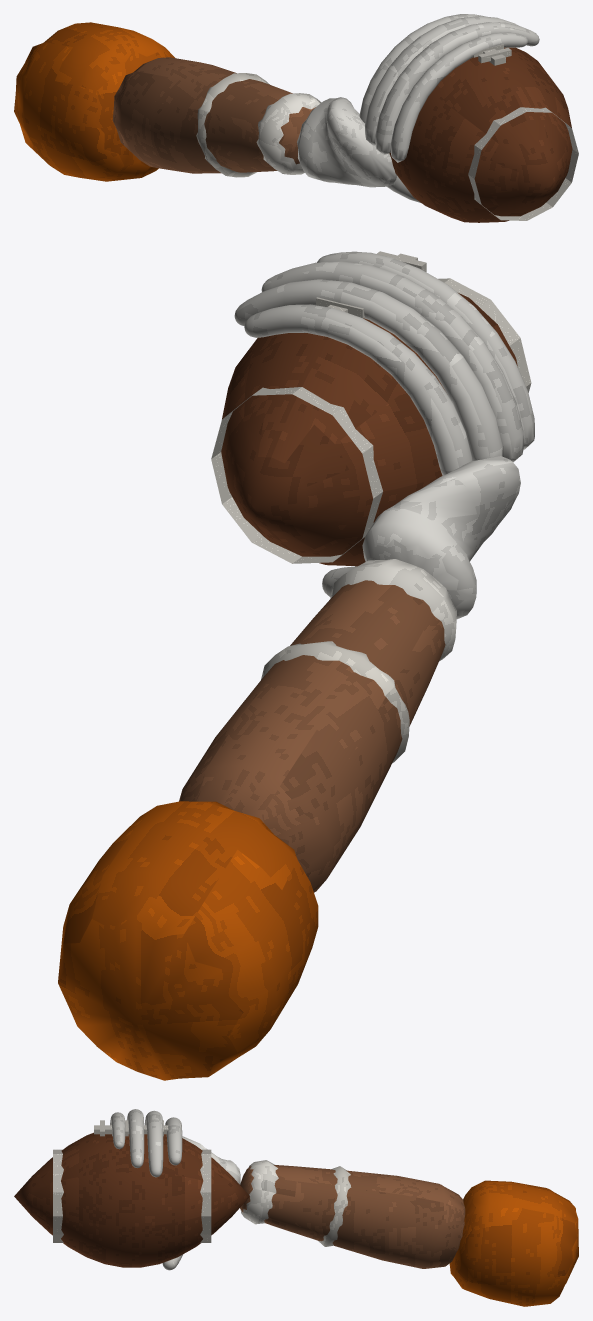
Rendered from fp_arm.glb.
3 renders of one model, top to bottom at view 1: azimuth 30°, elevation 25°; view 2: azimuth 150°, elevation 25°; view 3: azimuth 270°, elevation 25°, orthographic. The views are drawn at different scales.
Visible parts, largest first — view 1: fp_arm, fp_ball; view 2: fp_arm, fp_ball; view 3: fp_arm, fp_ball.
Part boxes in pixels (left/top/right/bottom): fp_arm: left=14, top=14, right=539, bottom=203; fp_ball: left=389, top=44, right=578, bottom=222; fp_arm: left=58, top=251, right=534, bottom=1080; fp_ball: left=211, top=251, right=531, bottom=566; fp_arm: left=110, top=1109, right=578, bottom=1306; fp_ball: left=14, top=1120, right=249, bottom=1267.
Size of the model in its own units: 0.2921 by 0.3047 by 0.6698.
Materials: 7 (7 with a texture image).
